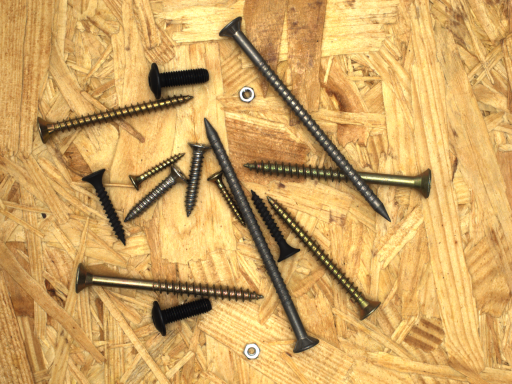screw_long: (202, 0, 415, 245), (177, 98, 338, 371)
